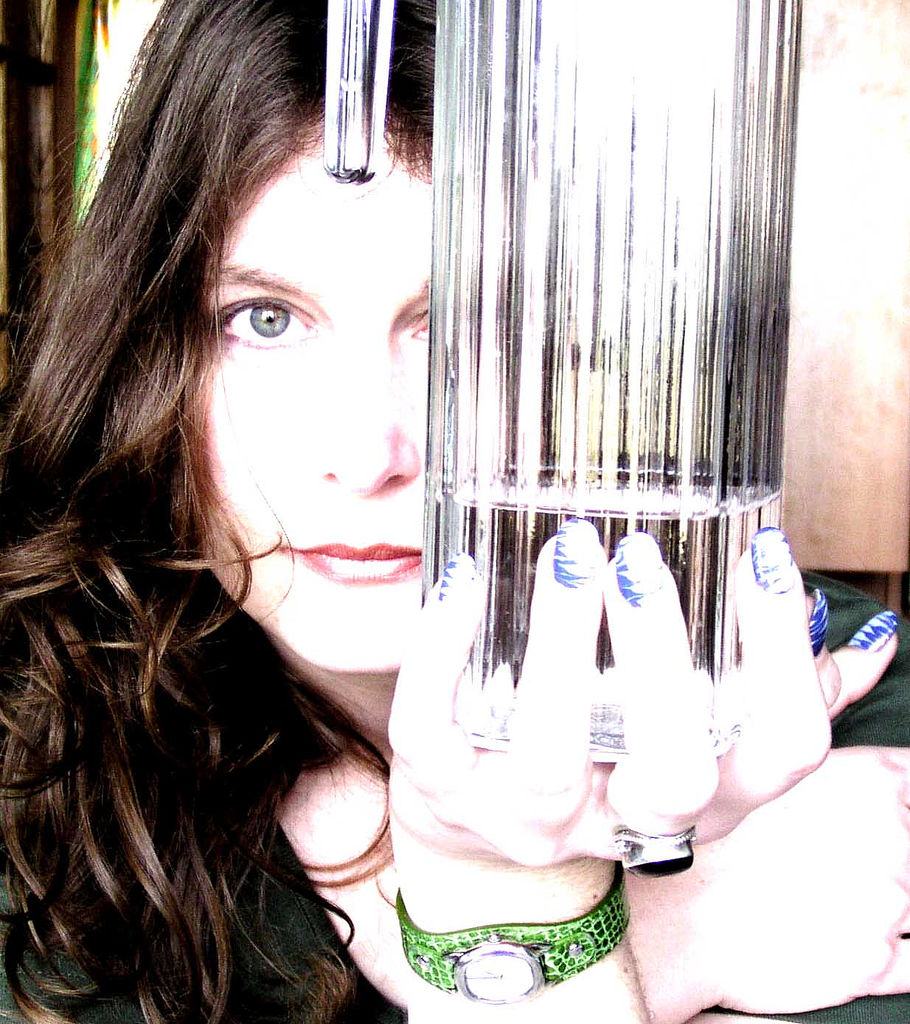glass of water: (432, 125, 779, 757)
